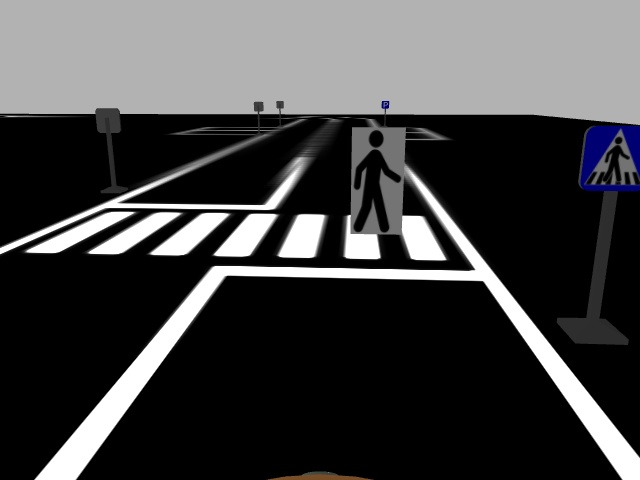parking: (380, 99, 390, 109)
pedestrian: (349, 124, 403, 236)
